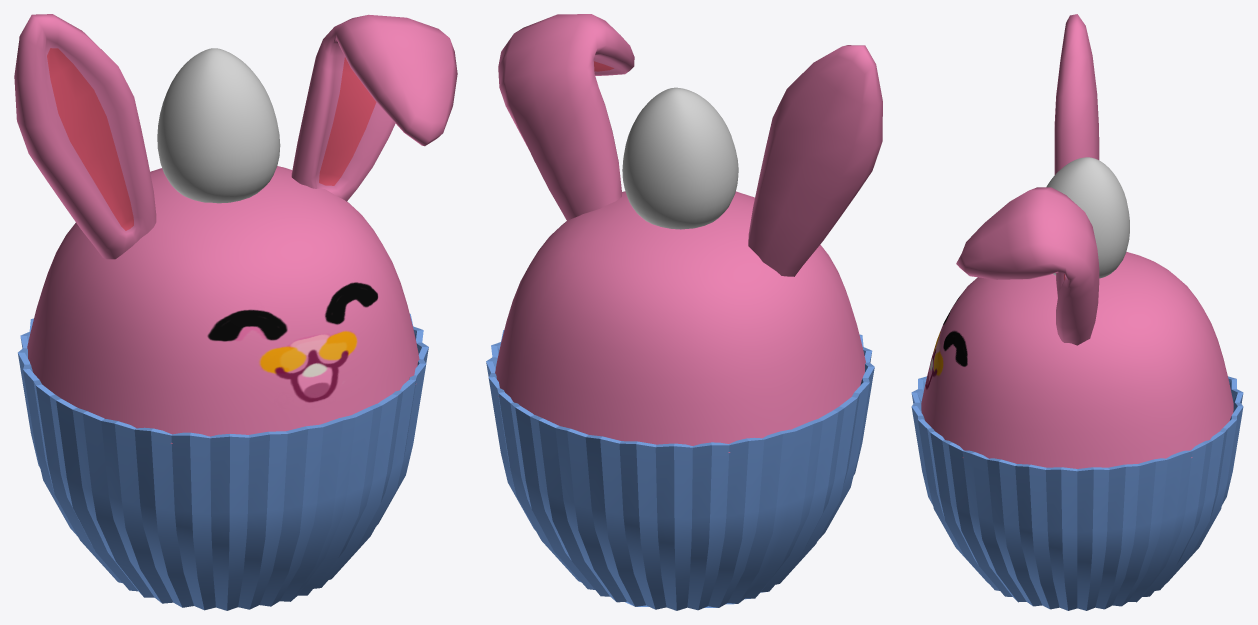
Rendered from cupcake.fbx.
The picture shows the model from 3 angles, left to right: view 1: azimuth 30°, elevation 25°; view 2: azimuth 150°, elevation 25°; view 3: azimuth 270°, elevation 25°; orthographic projection. The views are drawn at different scales.
Parts seen in each view (by area): view 1: Cube, Cylinder, Cube.001, Cube.002, Cube.003; view 2: Cube, Cylinder, Cube.001, Cube.002, Cube.003; view 3: Cube, Cylinder, Cube.002, Cube.001, Cube.003.
Boxes of the visible parts, x1,y1,x2,y2 form: Cube: [27, 166, 419, 443]; Cylinder: [18, 314, 428, 610]; Cube.001: [14, 14, 156, 259]; Cube.002: [291, 14, 457, 201]; Cube.003: [157, 48, 280, 203]; Cube: [495, 191, 865, 452]; Cylinder: [486, 330, 874, 610]; Cube.001: [748, 45, 882, 276]; Cube.002: [498, 14, 634, 220]; Cube.003: [622, 87, 738, 229]; Cube: [921, 252, 1233, 468]; Cylinder: [911, 376, 1243, 610]; Cube.002: [956, 187, 1099, 345]; Cube.001: [1054, 14, 1099, 174]; Cube.003: [1046, 157, 1129, 278].
Size of the model in its own units: 272 by 372 by 232.
